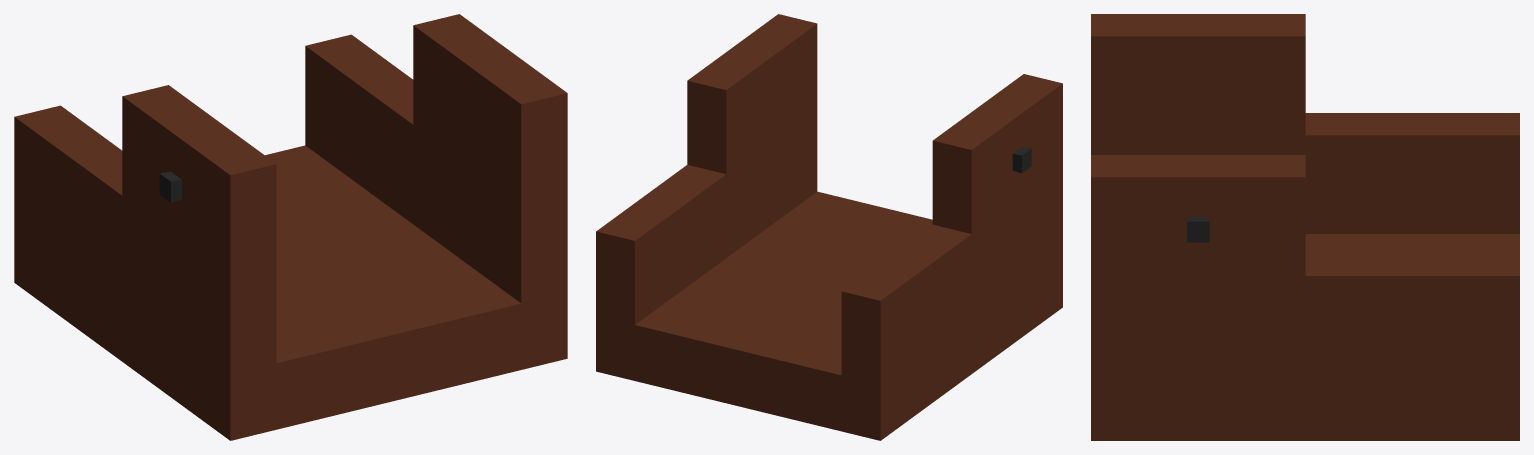
The model's file is CanonBase.fbx.
The picture shows the model from 3 angles, left to right: view 1: azimuth 30°, elevation 25°; view 2: azimuth 150°, elevation 25°; view 3: azimuth 270°, elevation 25°; orthographic projection. The views are drawn at different scales.
Parts seen in each view (by area): view 1: Cube; view 2: Cube; view 3: Cube.
Part boxes in pixels (x1=…): Cube: x1=14, y1=14, x2=567, y2=440; Cube: x1=596, y1=14, x2=1062, y2=440; Cube: x1=1091, y1=14, x2=1519, y2=440.
Size of the model in its own units: 327 by 231 by 341.
